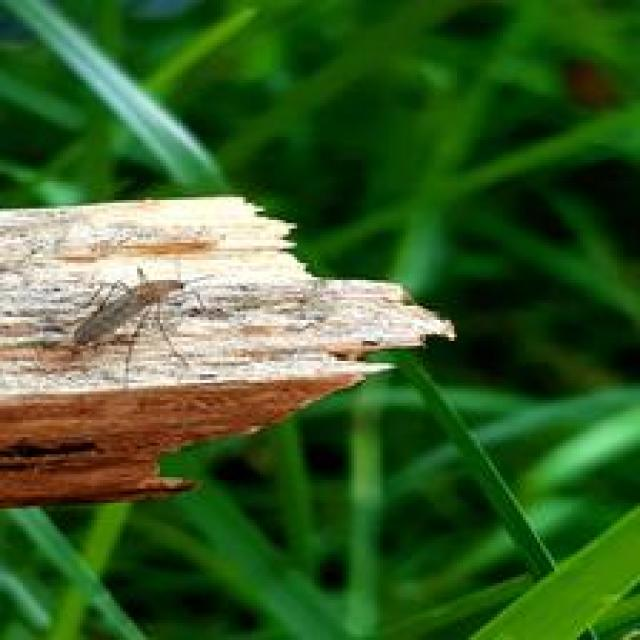Culex: (64, 264, 204, 382)
